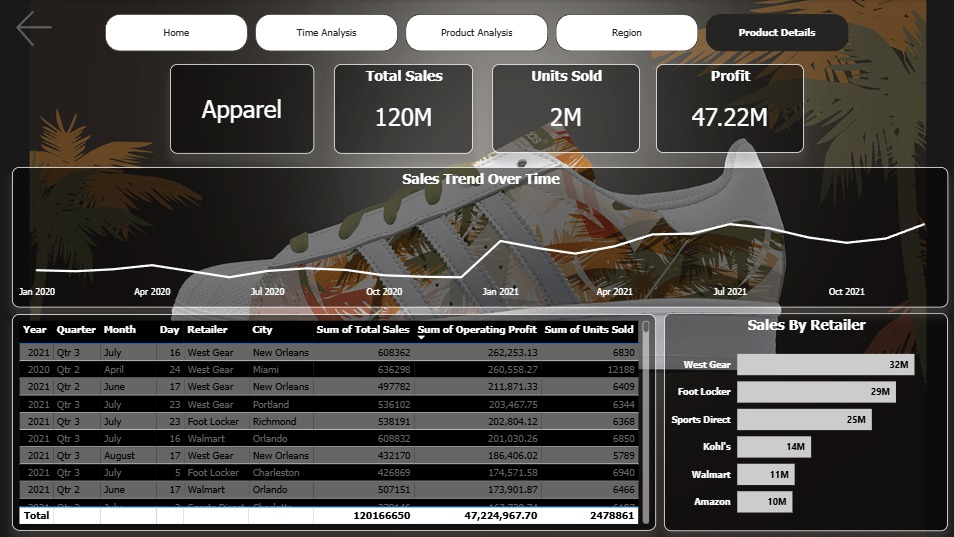

This screenshot's page, from the dashboard's own definition file:
{"tool":"powerbi","page":{"name":"Product Details","canvas":[1280,720],"ordinal":4},"visuals":[{"type":"card","fields":{"Values":["Min(Adidas_Sales.Product Category)"]},"box":[227.1,86.7,192.7,119.7],"z":0},{"type":"card","title":"Total Sales","fields":{"Values":["Sum(Adidas_Sales.Total Sales)"]},"box":[447.3,86.7,185.8,119.7],"z":1000},{"type":"card","title":"Profit","fields":{"Values":["Sum(Adidas_Sales.Operating Profit)"]},"box":[877.6,86.9,197.7,119.2],"z":2000},{"type":"card","title":"Units Sold","fields":{"Values":["Sum(Adidas_Sales.Units Sold)"]},"box":[658.9,86.9,197.7,119.2],"z":3000},{"type":"barChart","title":"Sales By Retailer","fields":{"Category":["Adidas_Sales.Retailer"],"Y":["Sum(Adidas_Sales.Total Sales)"]},"box":[888.8,420.6,379.9,291.6],"z":4000},{"type":"lineChart","title":"Sales Trend Over Time","fields":{"Y":["Sum(Adidas_Sales.Total Sales)"],"Category":["Adidas_Sales.Invoice Date.Variation.Date Hierarchy.Year","Adidas_Sales.Invoice Date.Variation.Date Hierarchy.Quarter","Adidas_Sales.Invoice Date.Variation.Date Hierarchy.Month","Adidas_Sales.Invoice Date.Variation.Date Hierarchy.Day"]},"box":[15.4,224.3,1253.4,187.9],"z":5000},{"type":"tableEx","fields":{"Values":["Adidas_Sales.Invoice Date.Variation.Date Hierarchy.Year","Adidas_Sales.Invoice Date.Variation.Date Hierarchy.Quarter","Adidas_Sales.Invoice Date.Variation.Date Hierarchy.Month","Adidas_Sales.Invoice Date.Variation.Date Hierarchy.Day","Adidas_Sales.Retailer","Adidas_Sales.City","Sum(Adidas_Sales.Total Sales)","Sum(Adidas_Sales.Operating Profit)","Sum(Adidas_Sales.Units Sold)"]},"box":[15.4,422,862.2,290.2],"z":6000},{"type":"pageNavigator","box":[140.2,19.6,999.6,50.5],"z":7000},{"type":"actionButton","box":[15.4,9.8,65.9,60.3],"z":8000}]}

Visuals, with their boxes in screenshot pixels (x1, y1, x2, y2), scaled from the page's 1280x720 canvas onto the 954x537 screenshot:
card - Min(Adidas_Sales.Product Category): 169:65:313:154
"Total Sales" card: 333:65:472:154
"Profit" card: 654:65:801:154
"Units Sold" card: 491:65:638:154
"Sales By Retailer" barChart: 662:314:946:531
"Sales Trend Over Time" lineChart: 11:167:946:307
tableEx - Adidas_Sales.Invoice Date.Variation.Date Hierarchy.Year x Adidas_Sales.Invoice Date.Variation.Date Hierarchy.Quarter: 11:315:654:531
pageNavigator: 104:15:850:52
actionButton: 11:7:61:52
